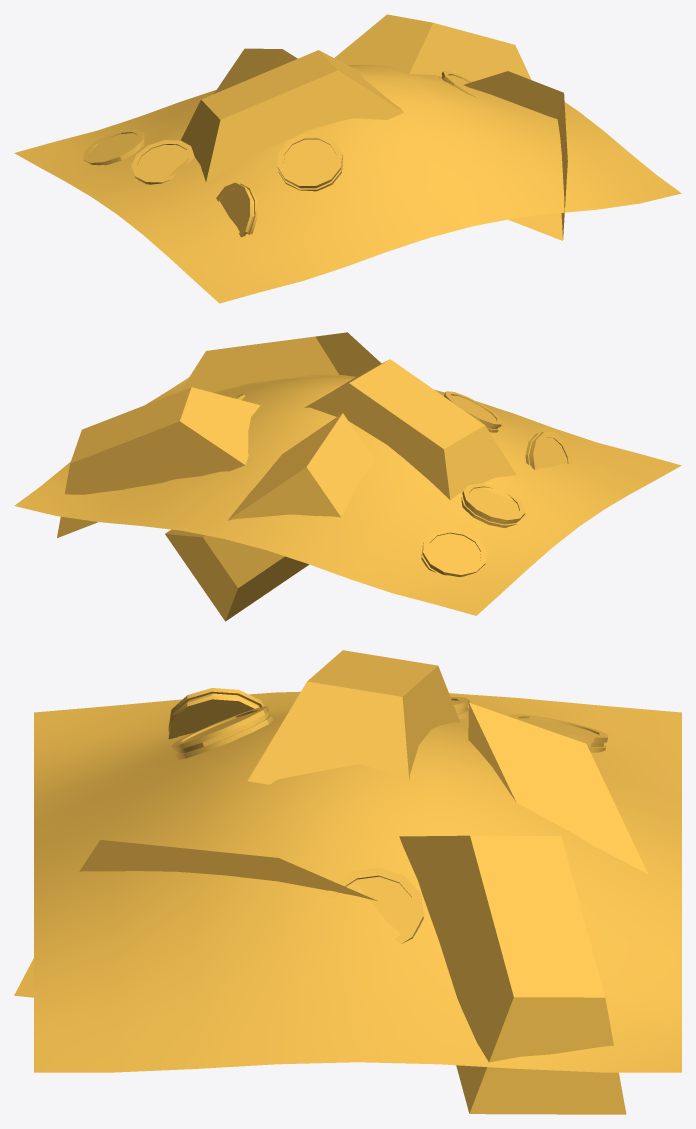
The model's file is treasure.glb.
3 renders of one model, top to bottom at view 1: azimuth 30°, elevation 25°; view 2: azimuth 150°, elevation 25°; view 3: azimuth 270°, elevation 25°, orthographic. The views are drawn at different scales.
Parts seen in each view (by area): view 1: treasure; view 2: treasure; view 3: treasure.
Part boxes in pixels (left/top/right/bottom): treasure: left=14, top=14, right=681, bottom=303; treasure: left=14, top=332, right=681, bottom=621; treasure: left=14, top=650, right=681, bottom=1114.
Bounding box in the file's own units: 1.26 × 0.5415 × 0.9915.
Materials: 1 (1 with a texture image).
